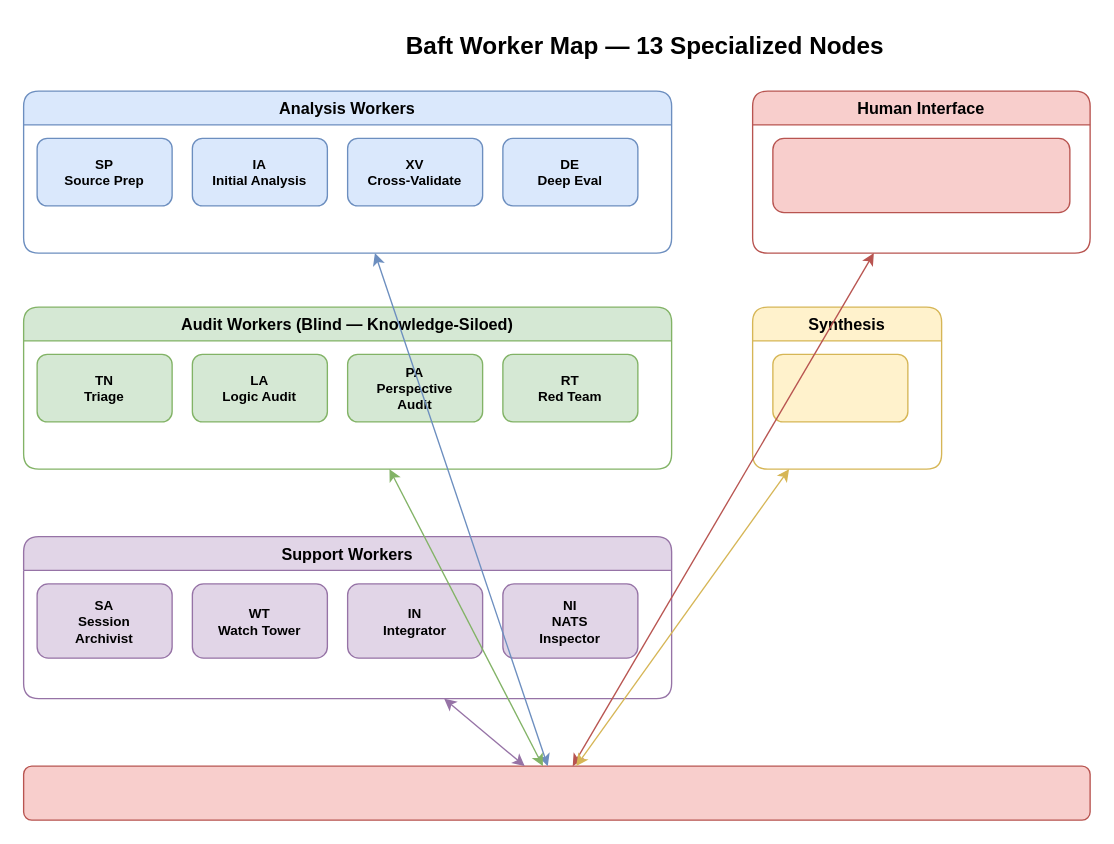
This 1114x844 diagram has some shape labels left out. Each missing label, with the centre of its shape:
"AS Audit Synth" goes at point 840,387.
"HI-A Human Interface — Analyst (Claude ↔ MCP Gateway)" goes at point 921,175.
"NATS Message Bus" goes at point 556,792.
